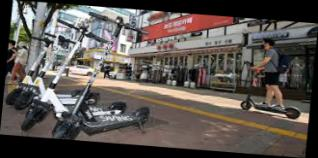nonhelmet: (235, 34, 310, 122)
